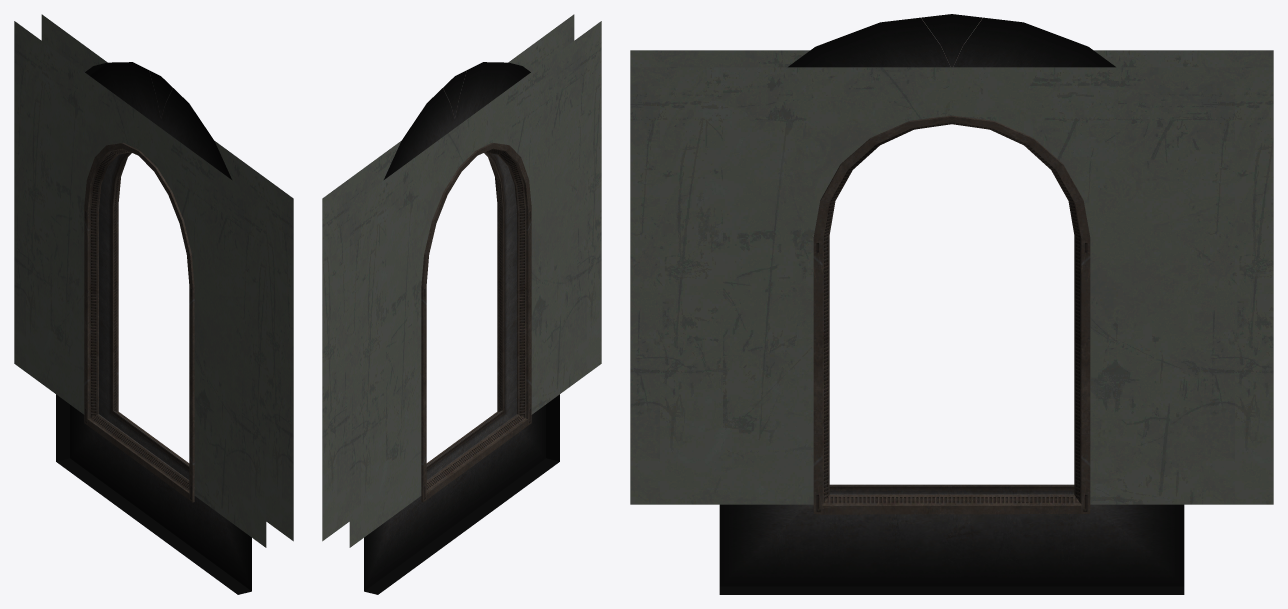
The model's file is tau_tunnel_door_small_frame_light.dae.
3 views of the same model, side by side, from view 1: azimuth 30°, elevation 25°; view 2: azimuth 150°, elevation 25°; view 3: azimuth 270°, elevation 25° (orthographic). The views are drawn at different scales.
Parts seen in each view (by area): view 1: polySurface461, polySurface460; view 2: polySurface461, polySurface460; view 3: polySurface461, polySurface460.
Part boxes in pixels (box(x1,y1,x2,y2)): polySurface461: box(14, 14, 293, 547); polySurface460: box(56, 62, 251, 594); polySurface461: box(322, 14, 601, 547); polySurface460: box(364, 62, 559, 594); polySurface461: box(630, 50, 1273, 504); polySurface460: box(719, 14, 1184, 594).
Bounding box in the file's own units: 0.2837 × 3.93 × 4.
